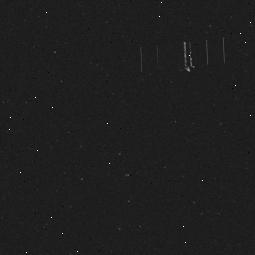soho: (123, 29, 240, 91)
